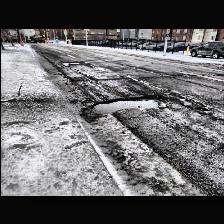pothole: (90, 94, 166, 111)
